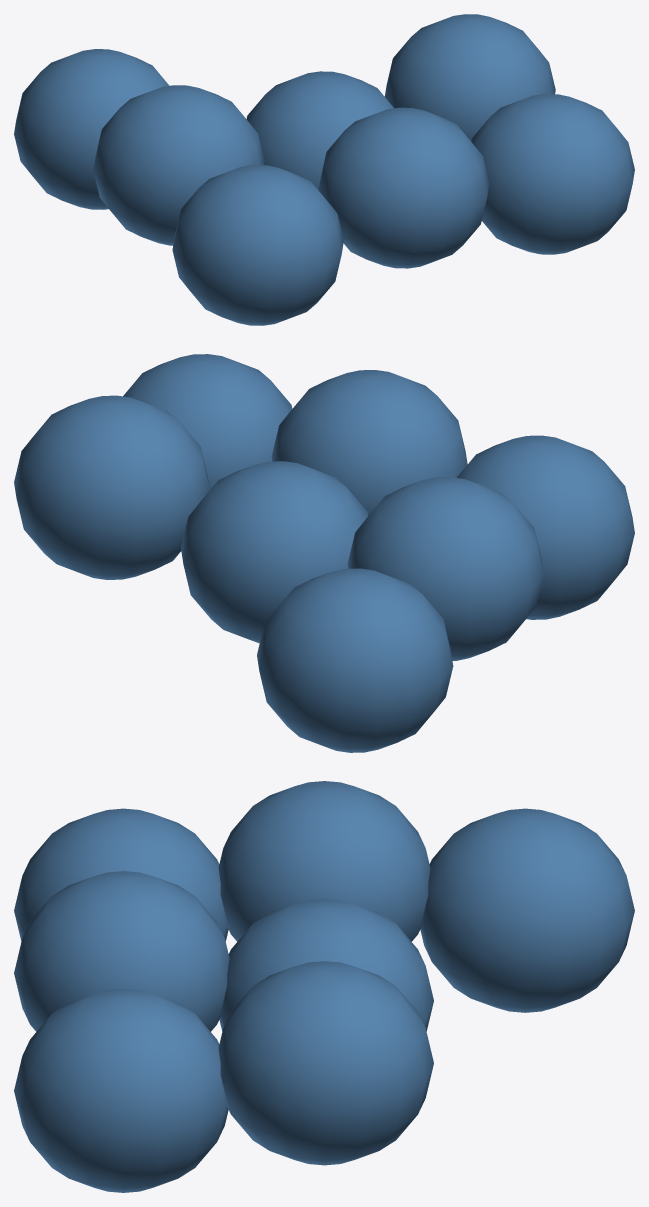
Rendered from blueberries.glb.
3 renders of one model, top to bottom at view 1: azimuth 30°, elevation 25°; view 2: azimuth 150°, elevation 25°; view 3: azimuth 270°, elevation 25°, orthographic. The views are drawn at different scales.
Visible parts, largest first — view 1: edible_berry, edible_berry.001, edible_berry.002, edible_berry.003, edible_berry.005, edible_berry.006, edible_berry.004; view 2: edible_berry.006, edible_berry.005, edible_berry.003, edible_berry.004, edible_berry.001, edible_berry, edible_berry.002; view 3: edible_berry.005, edible_berry.006, edible_berry.002, edible_berry.001, edible_berry.003, edible_berry.004, edible_berry.
Boxes of the visible parts, x1,y1,x2,y2 form: edible_berry: (172, 165, 343, 325); edible_berry.001: (318, 107, 489, 268); edible_berry.002: (471, 94, 634, 254); edible_berry.003: (93, 85, 264, 245); edible_berry.005: (384, 14, 555, 141); edible_berry.006: (14, 49, 169, 209); edible_berry.004: (246, 71, 393, 189); edible_berry.006: (257, 568, 453, 752); edible_berry.005: (14, 395, 209, 579); edible_berry.003: (347, 477, 543, 660); edible_berry.004: (181, 461, 368, 643); edible_berry.001: (271, 370, 467, 515); edible_berry: (457, 435, 634, 619); edible_berry.002: (123, 354, 292, 489); edible_berry.005: (218, 961, 433, 1165); edible_berry.006: (420, 808, 634, 1012); edible_berry.002: (14, 988, 228, 1192); edible_berry.001: (14, 871, 229, 1031); edible_berry.003: (218, 781, 430, 941); edible_berry.004: (219, 898, 433, 1031); edible_berry: (14, 808, 228, 941).
Bounding box in the file's own units: 0.106 × 0.0381 × 0.102.
